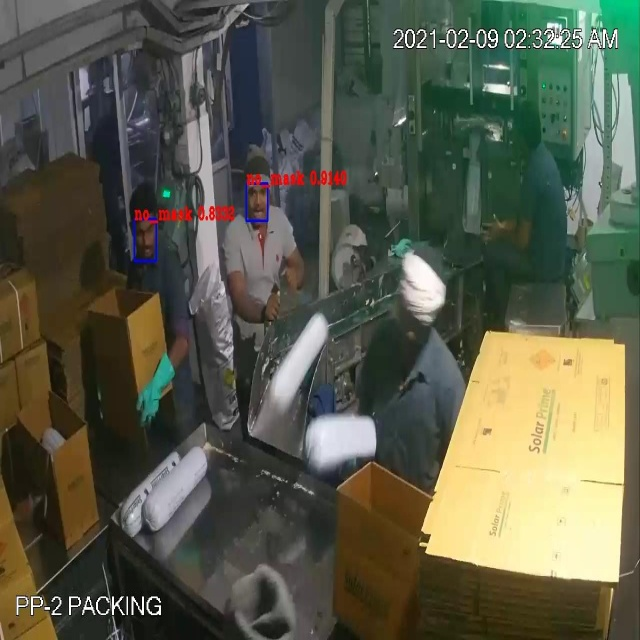Guantes: (132, 340, 182, 430)
Sin_guantes: (213, 248, 287, 348), (477, 193, 545, 265), (280, 236, 318, 302)
